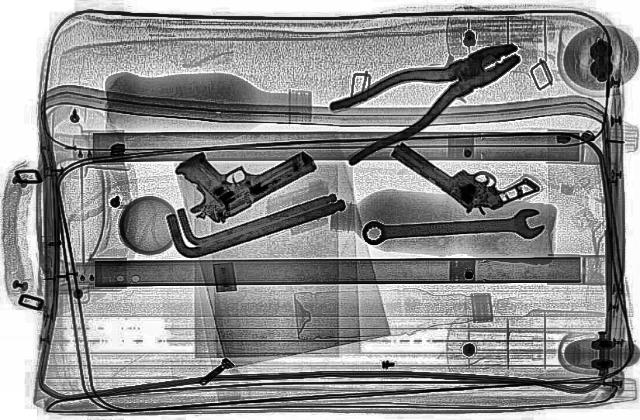Gun: (142, 122, 332, 230), (375, 119, 545, 221)
Pliers: (291, 27, 549, 165)
Wrench: (358, 205, 546, 249)
